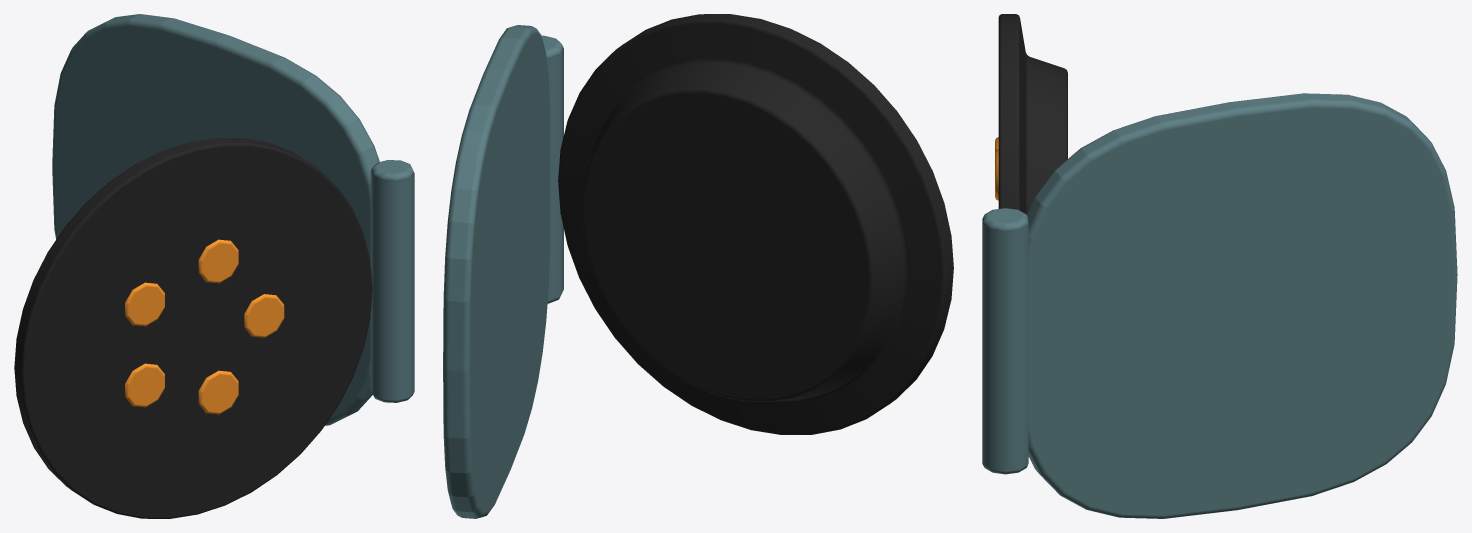
Rendered from bike_electric__charge_port.glb.
3 renders of one model, left to right at view 1: azimuth 30°, elevation 25°; view 2: azimuth 150°, elevation 25°; view 3: azimuth 270°, elevation 25°, orthographic. The views are drawn at different scales.
Visible parts, largest first — view 1: electrical__charge_port, electrical__charge_port__flap; view 2: electrical__charge_port, electrical__charge_port__flap; view 3: electrical__charge_port__flap, electrical__charge_port.
Boxes of the visible parts, x1,y1,x2,y2 form: electrical__charge_port: (14, 138, 372, 518); electrical__charge_port__flap: (52, 14, 414, 425); electrical__charge_port: (558, 14, 953, 434); electrical__charge_port__flap: (443, 25, 563, 518); electrical__charge_port__flap: (982, 93, 1457, 518); electrical__charge_port: (995, 14, 1067, 214).
Bounding box in the file's own units: 7.15 × 6.4 × 6.85.
